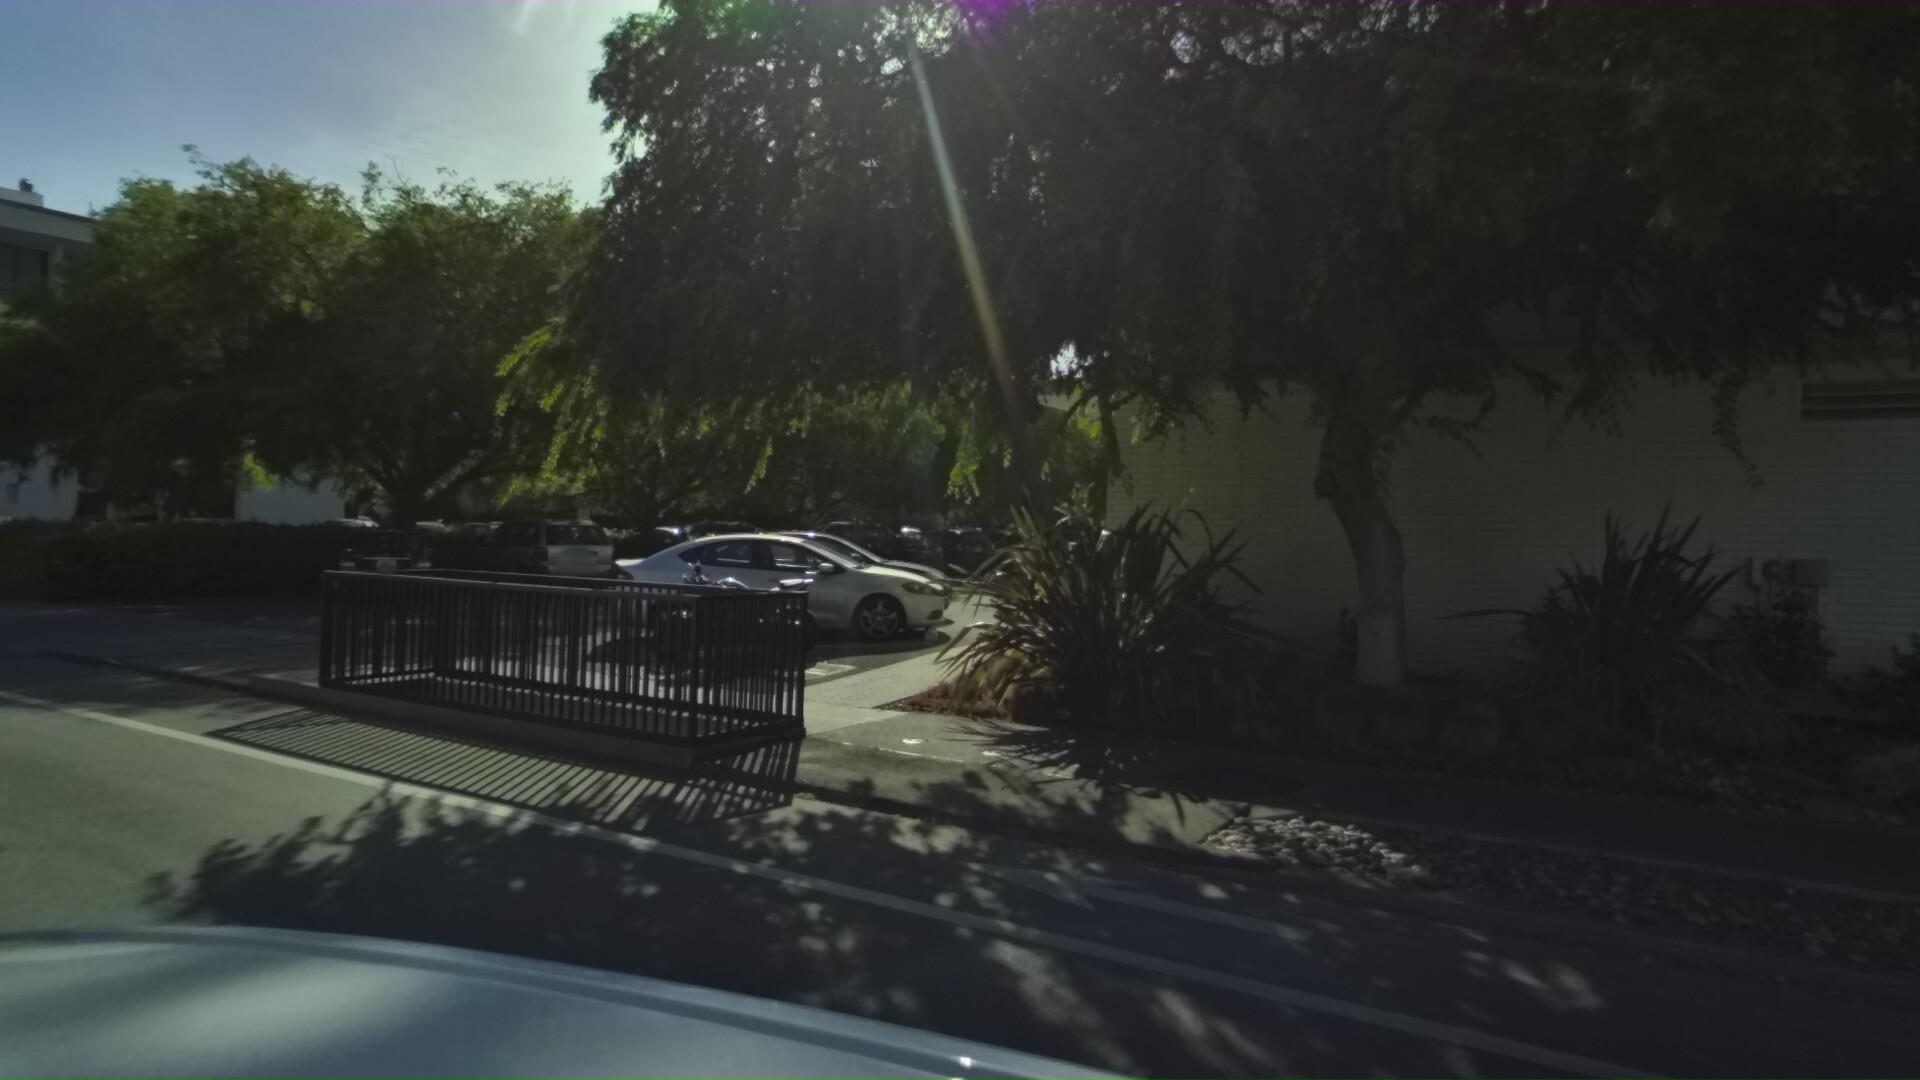car: (572, 526, 928, 665), (649, 535, 906, 641), (444, 512, 615, 607), (314, 526, 422, 620)
motorcycle: (620, 541, 812, 686)
